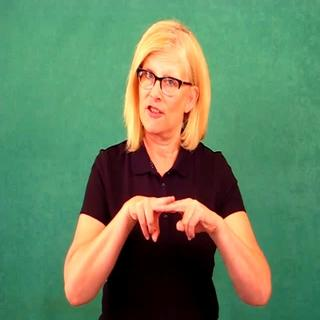chair: (124, 190, 214, 246)
